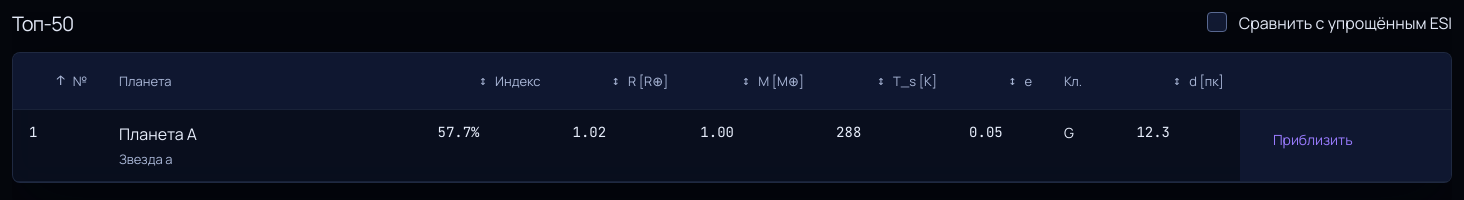
Test: строка таблицы › клик по строке открывает карточку и помечает строку выбранной
Click the text "Планета A" at (732, 145), box [13,110,1451,181]
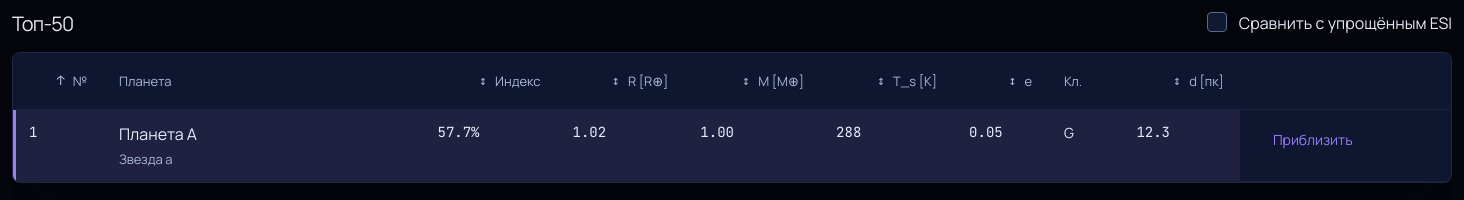
Now the text "Планета A" is selected, box [13,110,1451,181]
